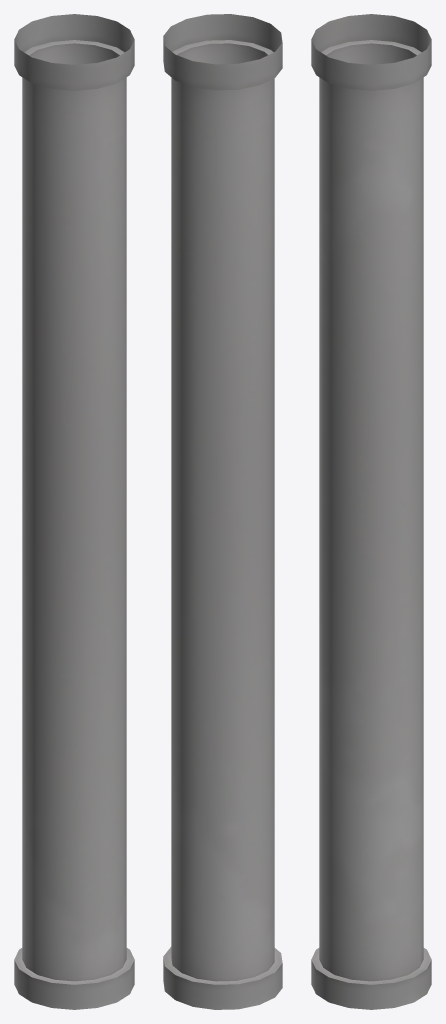
File: Pipe2.fbx
3 views of the same model, side by side, from view 1: azimuth 90°, elevation 25°; view 2: azimuth 150°, elevation 25°; view 3: azimuth 270°, elevation 25° (orthographic).
Parts seen in each view (by area): view 1: Mat_Pipe_01; view 2: Mat_Pipe_01; view 3: Mat_Pipe_01.
Boxes of the visible parts, x1,y1,x2,y2 form: Mat_Pipe_01: (14, 14, 134, 1009); Mat_Pipe_01: (163, 14, 282, 1009); Mat_Pipe_01: (311, 14, 431, 1009).
Bounding box in the file's own units: 0.3455 × 2.99 × 0.3455.
1 material, 1 textured.
